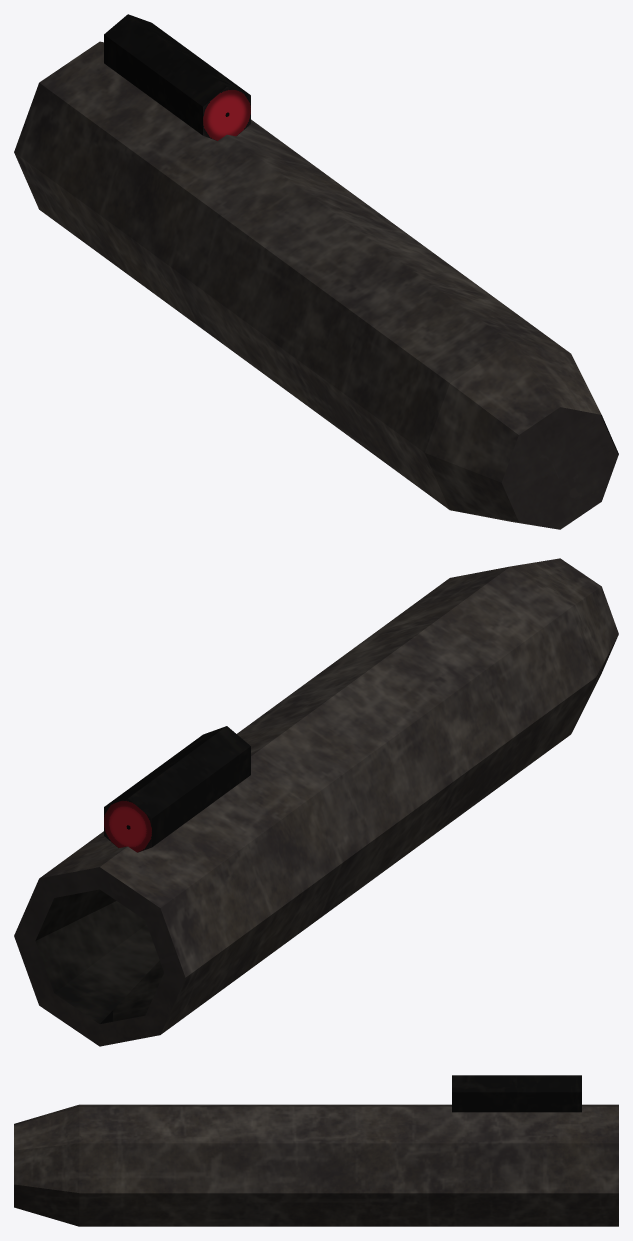
File: GrenadeLauncher.dae
3 views of the same model, one above another, from view 1: azimuth 30°, elevation 25°; view 2: azimuth 150°, elevation 25°; view 3: azimuth 270°, elevation 25° (orthographic). The views are drawn at different scales.
Visible parts, largest first — view 1: GrenadeLauncher; view 2: GrenadeLauncher; view 3: GrenadeLauncher.
Part boxes in pixels (<box>): GrenadeLauncher: <box>14,14,618,529</box>; GrenadeLauncher: <box>14,558,618,1046</box>; GrenadeLauncher: <box>14,1075,618,1226</box>.
Bounding box in the file's own units: 2 × 9.3 × 2.53.
1 material, 1 textured.
